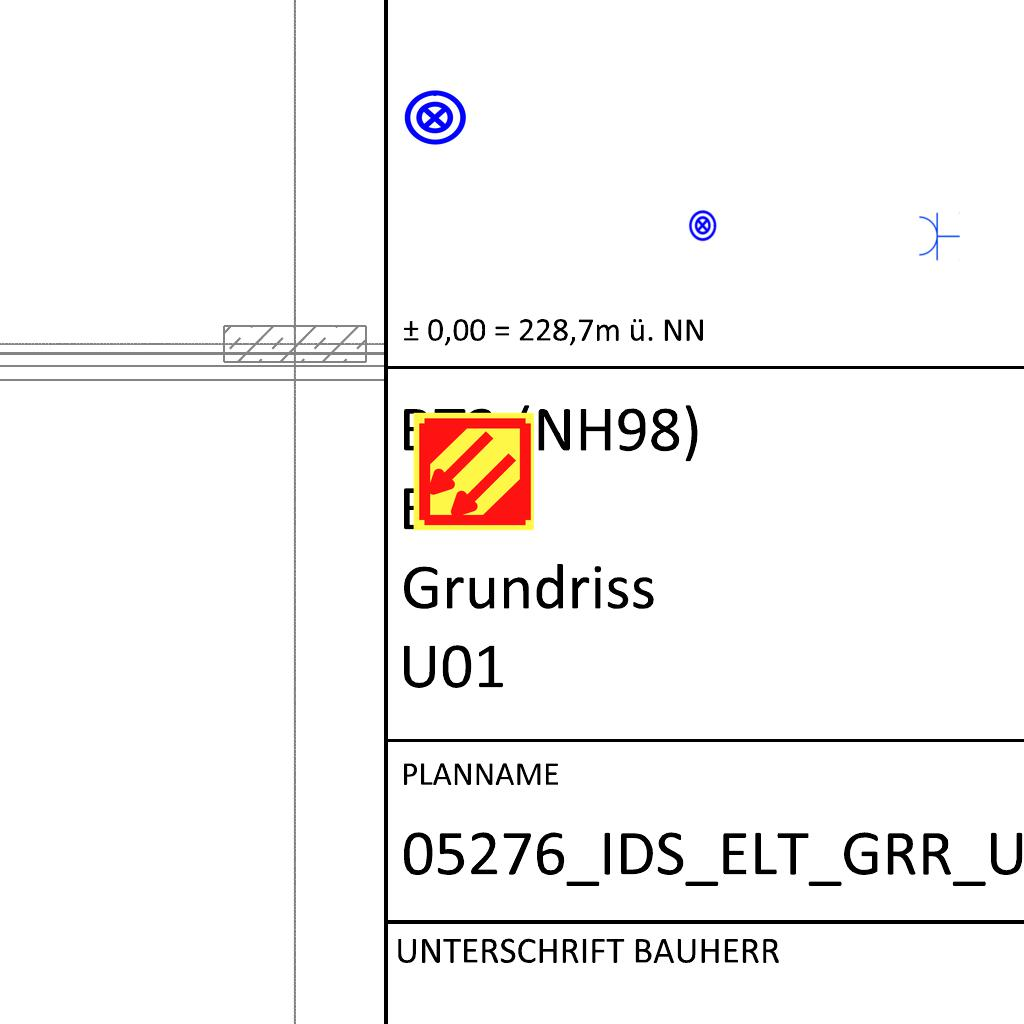ASR_Ansaugrauchmelder: (411, 409, 536, 534)
Schukosteckdose_einfach: (917, 211, 960, 261)
Taster_beleuchtet: (402, 85, 468, 151), (686, 209, 719, 242)
